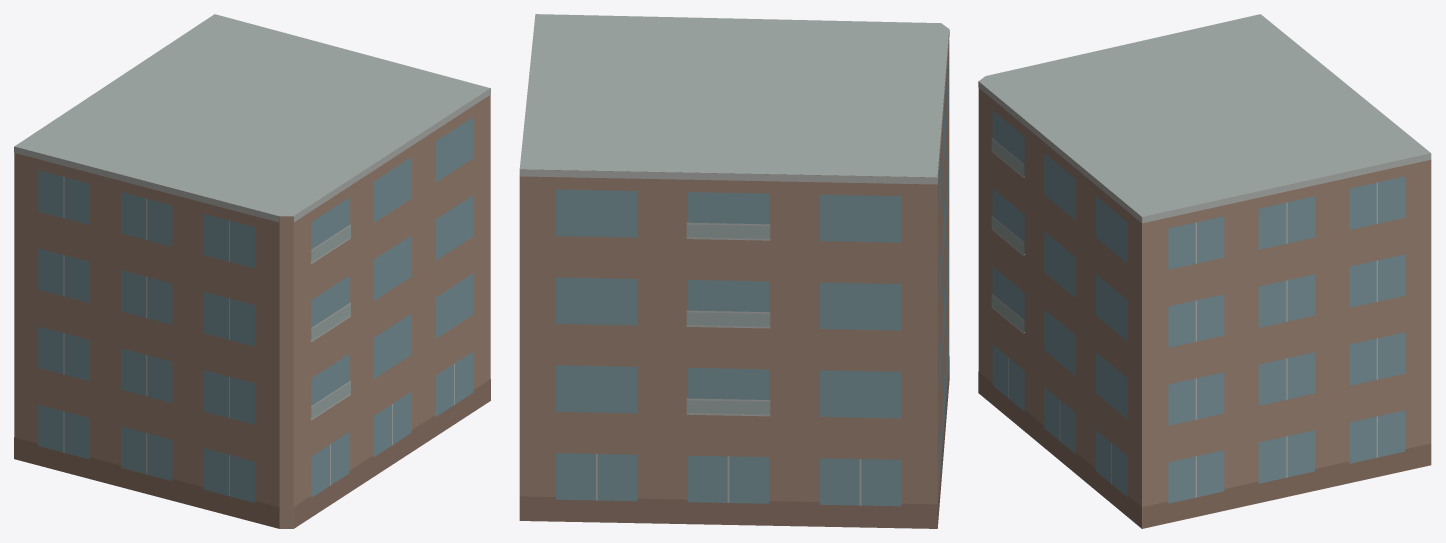
Rendered from survey-upis-32835791.glb.
The picture shows the model from 3 angles, left to right: view 1: azimuth 30°, elevation 25°; view 2: azimuth 150°, elevation 25°; view 3: azimuth 270°, elevation 25°; orthographic projection. The views are drawn at different scales.
Parts seen in each view (by area): view 1: survey-upis-32835791.tmp; view 2: survey-upis-32835791.tmp; view 3: survey-upis-32835791.tmp.
Boxes of the visible parts, left/top/right/bottom form: survey-upis-32835791.tmp: left=14, top=14, right=490, bottom=528; survey-upis-32835791.tmp: left=519, top=14, right=949, bottom=528; survey-upis-32835791.tmp: left=978, top=14, right=1431, bottom=528.
Bounding box in the file's own units: 16.77 × 12 × 15.8.
